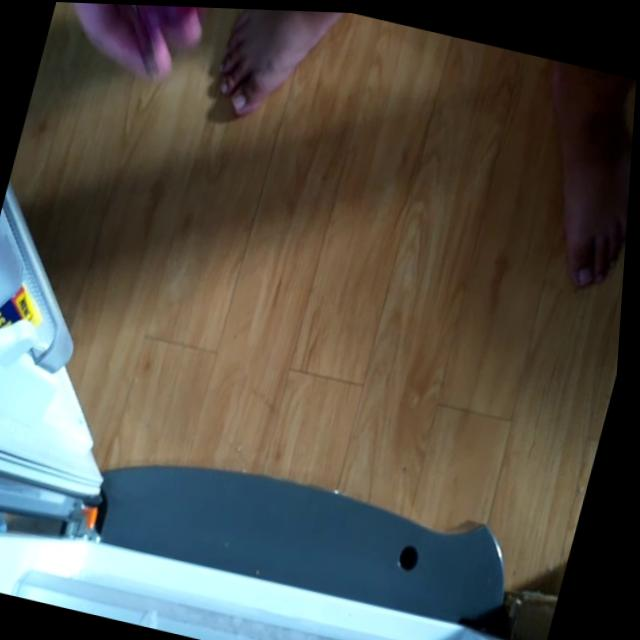onion: (80, 2, 210, 91)
